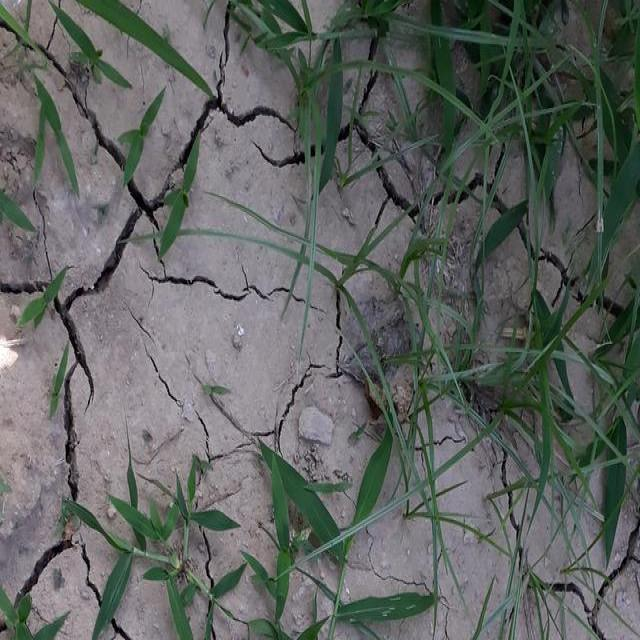weed: (223, 0, 640, 212), (100, 433, 368, 640), (422, 272, 640, 526)
